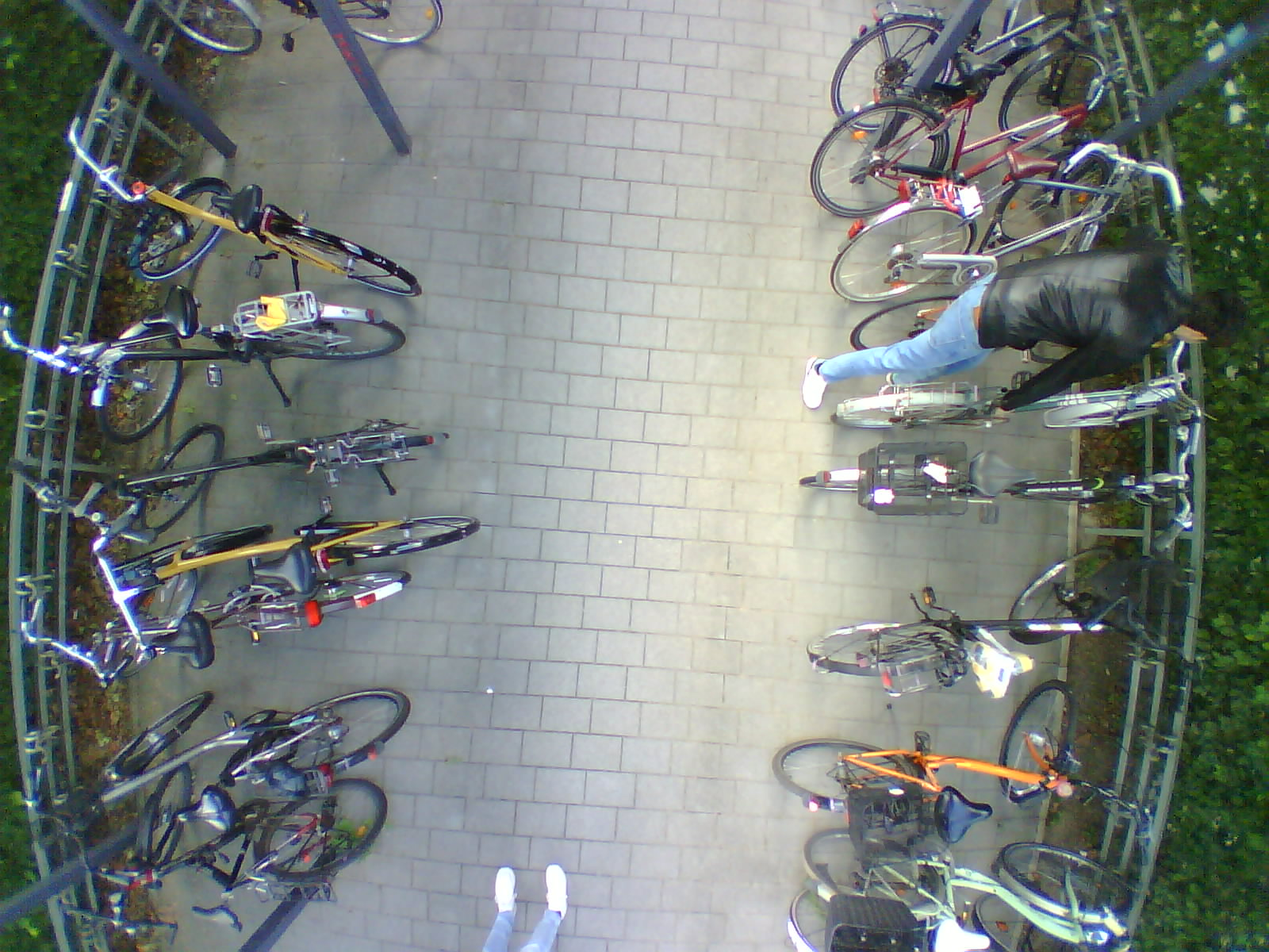bicylce: (775, 681, 1131, 844), (829, 138, 1167, 297), (811, 547, 1164, 690), (812, 70, 1131, 222), (75, 289, 412, 426), (96, 161, 422, 299), (70, 786, 386, 927), (781, 831, 1149, 948), (68, 674, 411, 791), (798, 435, 1201, 534), (99, 418, 458, 528), (47, 578, 448, 674), (831, 354, 1206, 445), (83, 517, 508, 596), (827, 0, 1065, 122)
saddle: (135, 612, 221, 679), (153, 778, 235, 846), (962, 439, 1035, 508), (964, 638, 1037, 703), (931, 780, 996, 846), (200, 177, 269, 239), (133, 288, 201, 345), (247, 552, 321, 601), (923, 906, 998, 952), (995, 137, 1063, 184), (188, 898, 242, 943), (954, 49, 1013, 85)
